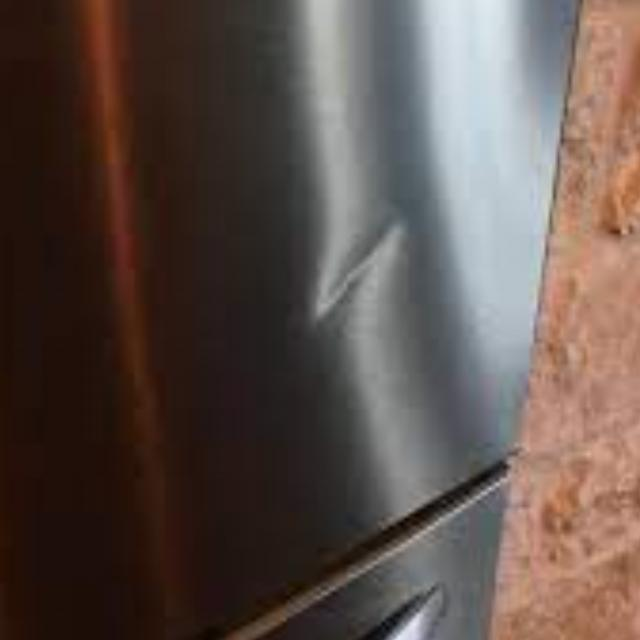dents: (246, 167, 456, 340)
